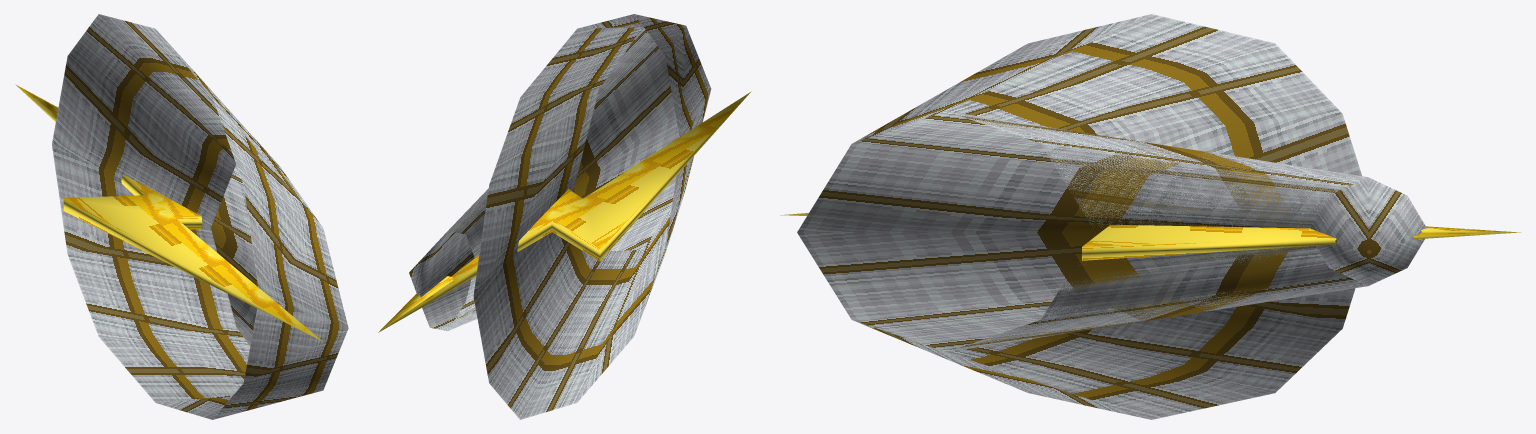
File: 10_03_stick.gltf
3 views of the same model, side by side, from view 1: azimuth 30°, elevation 25°; view 2: azimuth 150°, elevation 25°; view 3: azimuth 270°, elevation 25° (orthographic). The views are drawn at different scales.
Visible parts, largest first — view 1: 10_03_stick; view 2: 10_03_stick; view 3: 10_03_stick.
Part boxes in pixels (x1,y1,x2,y2): 10_03_stick: (15,14,348,419); 10_03_stick: (378,14,751,419); 10_03_stick: (780,14,1520,419).
Bounding box in the file's own units: 0.2705 × 0.761 × 1.26.
Materials: 2 (2 with a texture image).
